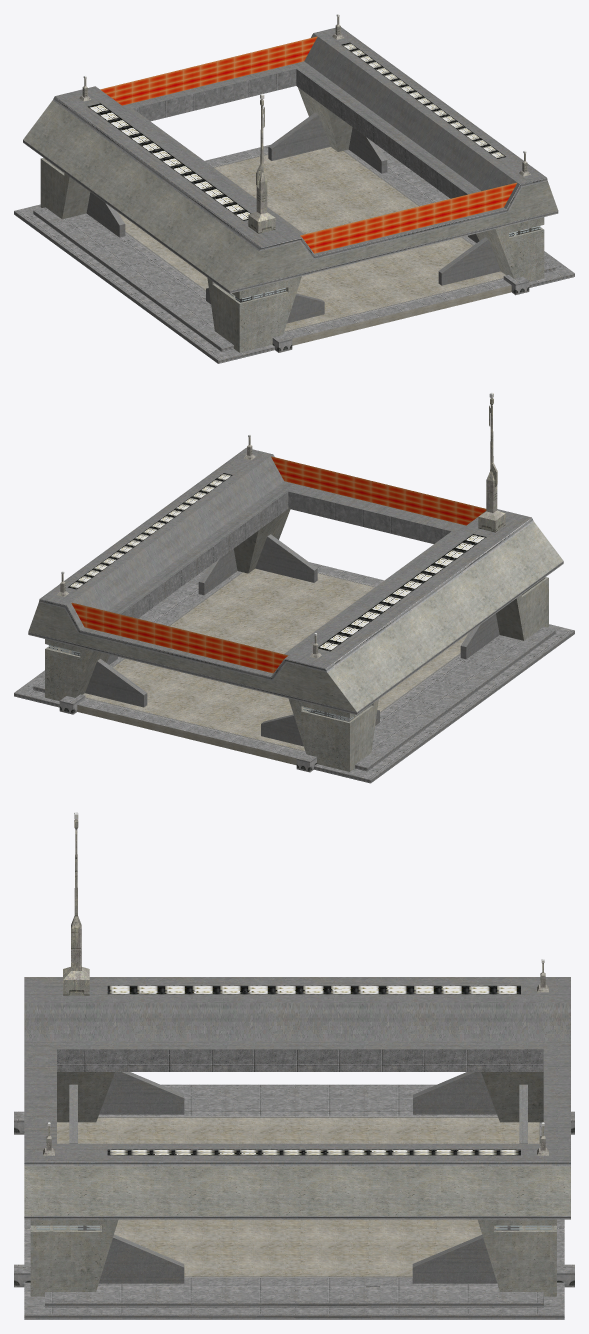
The model's file is mun_all_shuttleport_s01_l0.fbx.
3 views of the same model, one above another, from view 1: azimuth 30°, elevation 25°; view 2: azimuth 150°, elevation 25°; view 3: azimuth 270°, elevation 25° (orthographic). The views are drawn at different scales.
Visible parts, largest first — view 1: mesh_node; view 2: mesh_node; view 3: mesh_node.
Part boxes in pixels (left/top/right/bottom): mesh_node: left=14, top=14, right=574, bottom=363; mesh_node: left=14, top=392, right=574, bottom=783; mesh_node: left=14, top=812, right=574, bottom=1319.
Bounding box in the file's own units: 31.47 × 20.21 × 32.4.
